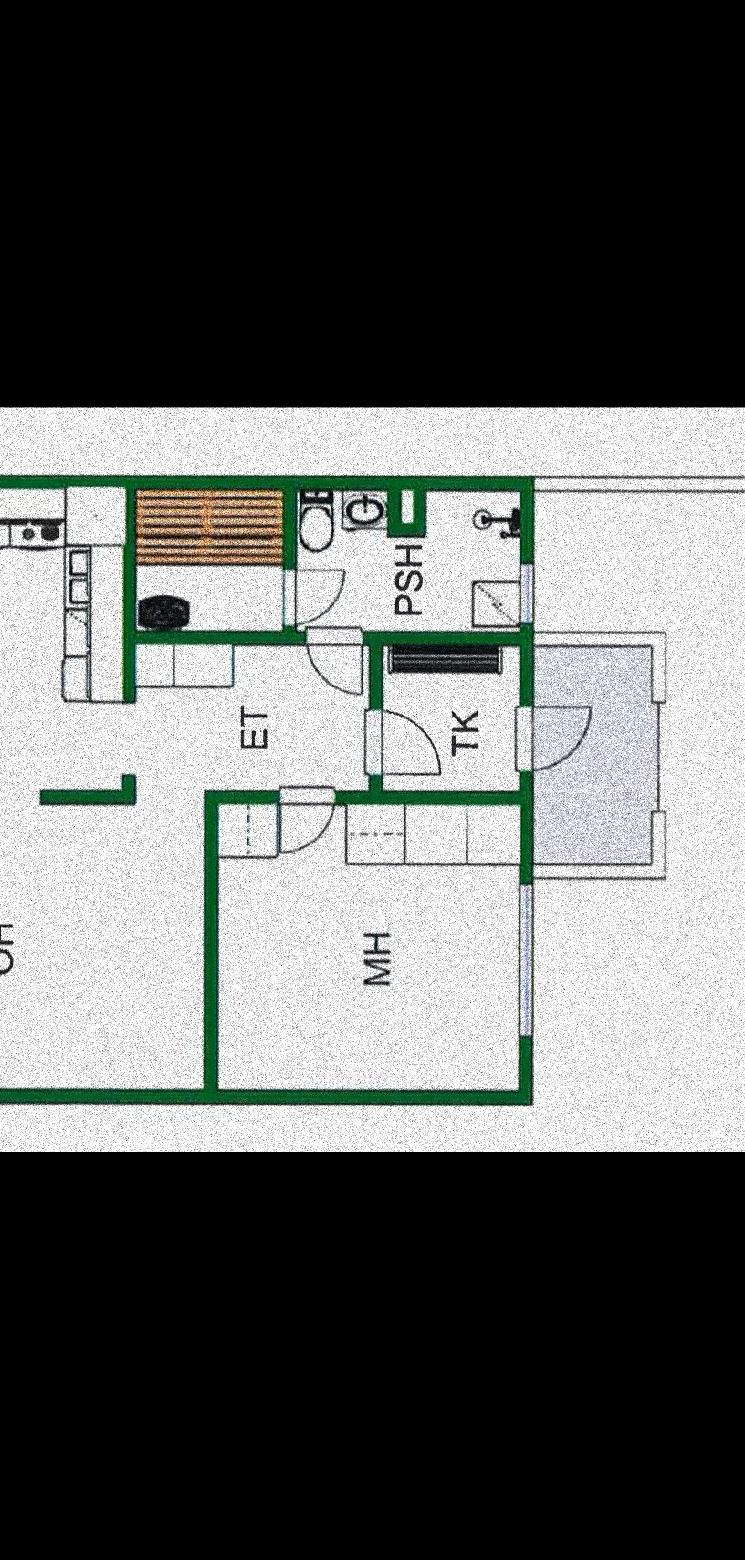door: (352, 705, 448, 780), (282, 562, 358, 631), (277, 784, 342, 859), (512, 706, 596, 762), (314, 638, 366, 713)
window: (512, 880, 542, 1048), (518, 566, 540, 626)
zone: (217, 815, 514, 1084), (0, 791, 204, 1083), (0, 486, 123, 783), (128, 644, 354, 795), (300, 492, 522, 636), (528, 644, 642, 858), (130, 496, 282, 634), (384, 646, 510, 792)
